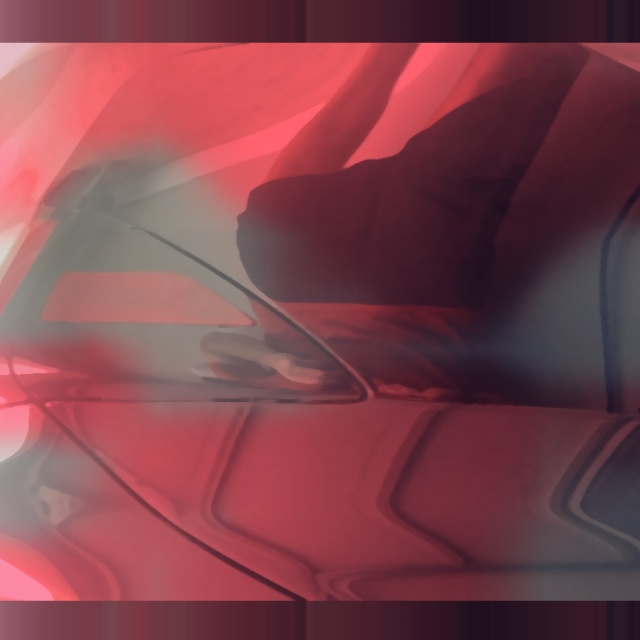reflector: (35, 269, 255, 326)
